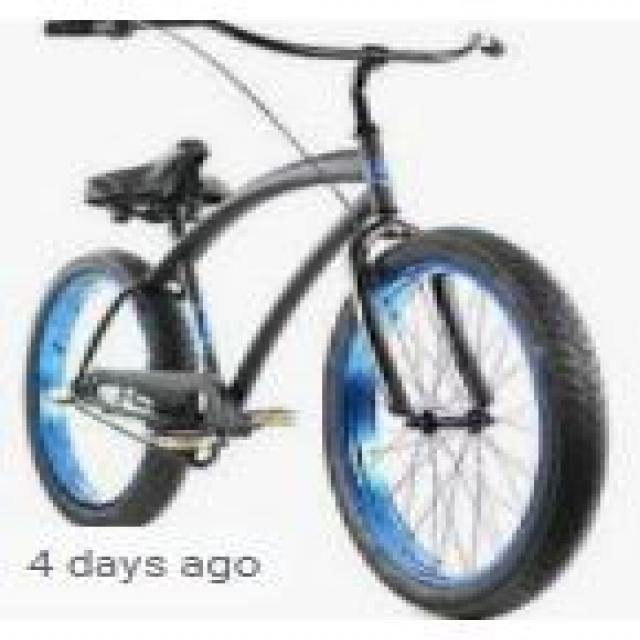bicycle: (32, 21, 610, 628)
